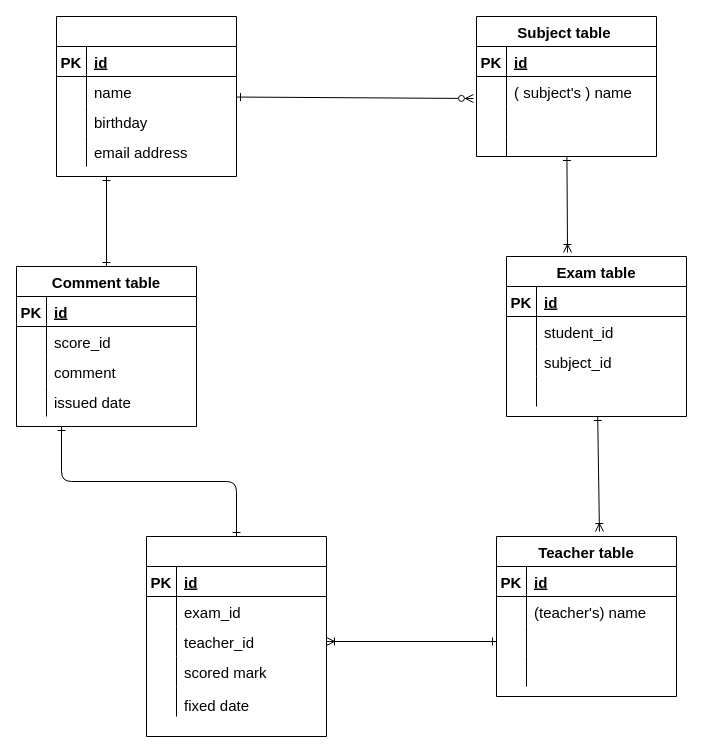
Some shapes in this 703 by 753 pixel diagram are drawn without their labels. Each missing label, with the box of its shape:
Score table: (146, 536, 326, 736)
Student table: (56, 16, 236, 176)
